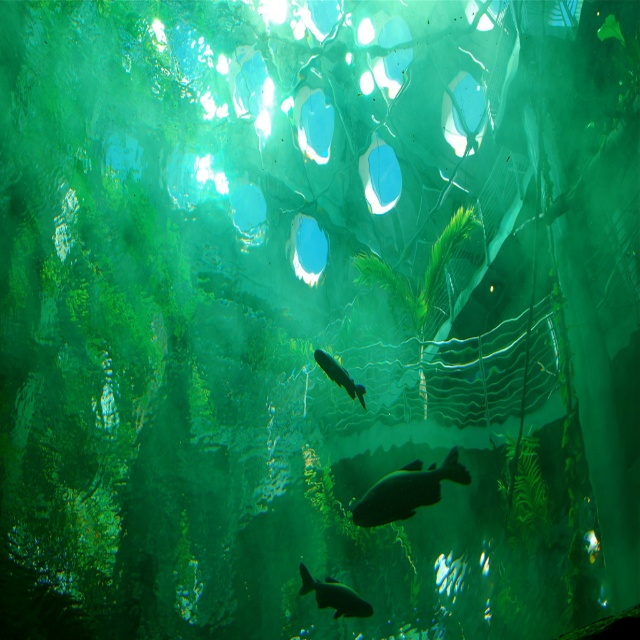Fish: (353, 444, 471, 527), (299, 562, 374, 619), (314, 348, 367, 411)
